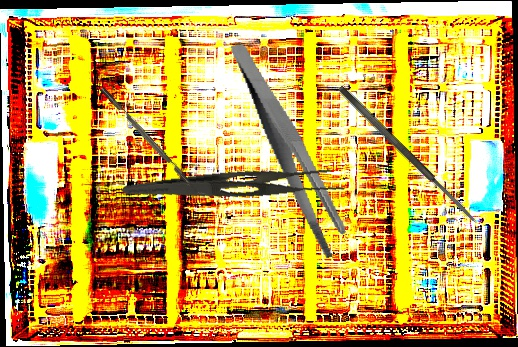Chopper: (100, 81, 208, 201)
Dressing Forceps: (229, 31, 351, 269), (120, 157, 347, 220)
Spatula Surgical: (336, 83, 479, 227)
